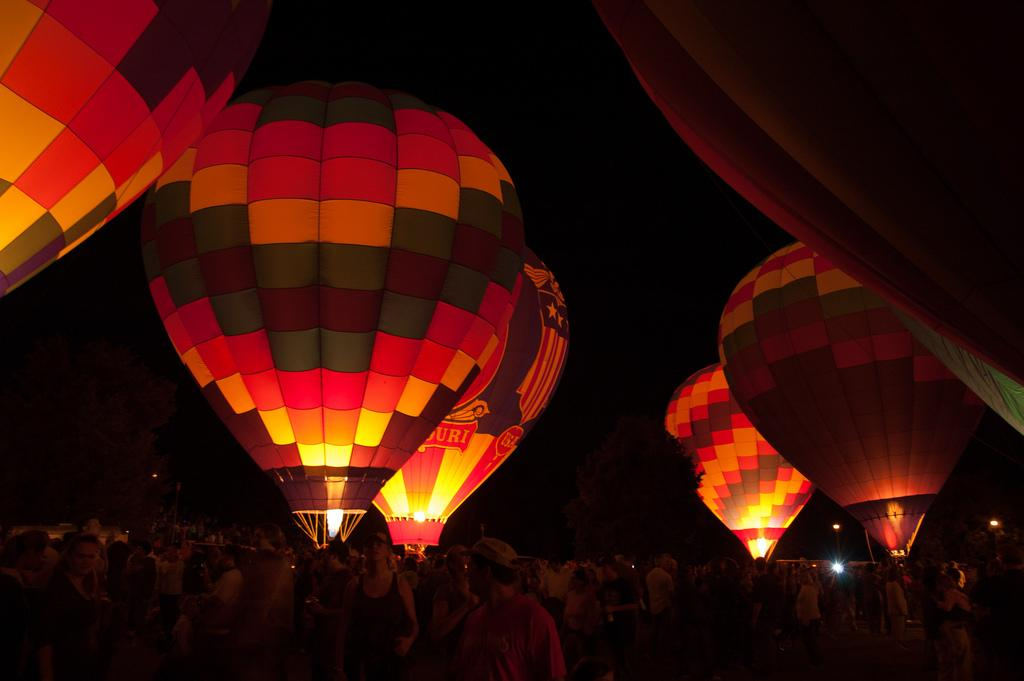fire: (330, 512, 345, 542), (747, 542, 768, 557)
